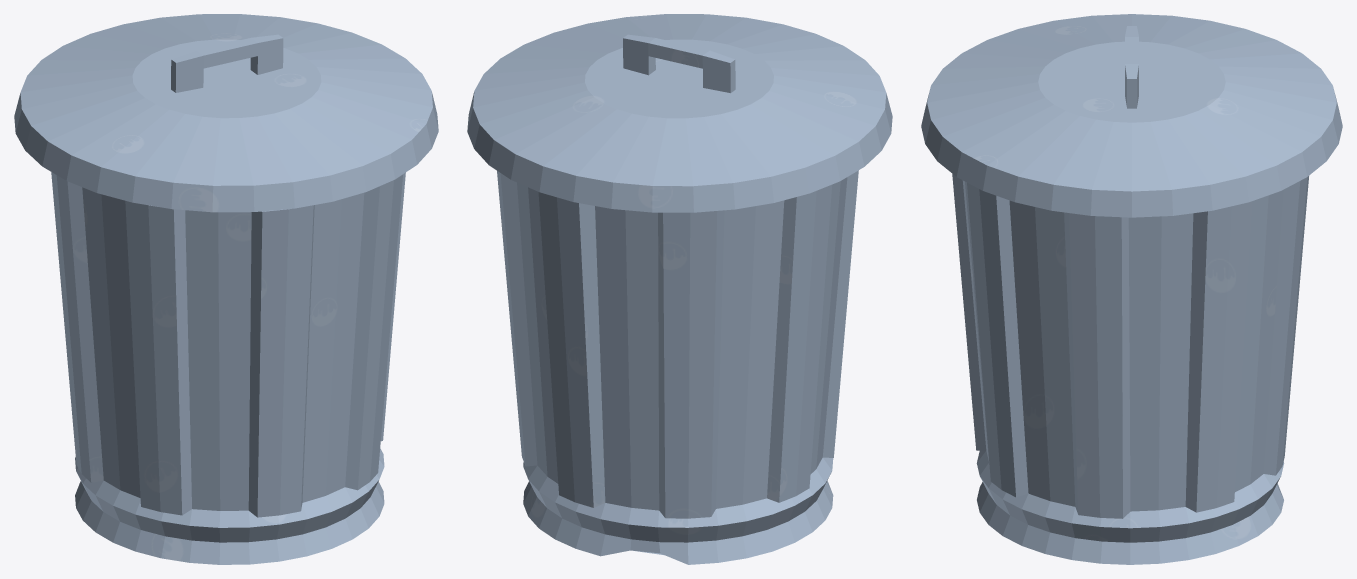
File: TrashCan.fbx
3 views of the same model, side by side, from view 1: azimuth 30°, elevation 25°; view 2: azimuth 150°, elevation 25°; view 3: azimuth 270°, elevation 25° (orthographic).
Parts seen in each view (by area): view 1: Trash Can.002; view 2: Trash Can.002; view 3: Trash Can.002.
Boxes of the visible parts, left/top/right/bottom form: Trash Can.002: left=14, top=14, right=438, bottom=564; Trash Can.002: left=467, top=14, right=892, bottom=564; Trash Can.002: left=921, top=14, right=1342, bottom=564.
Bounding box in the file's own units: 248 × 292 × 249.
